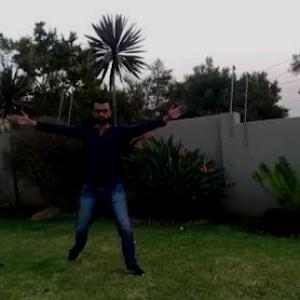takeoff: (6, 100, 174, 276)
